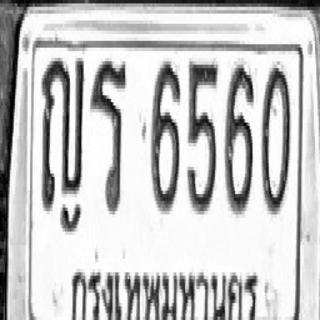A13: (41, 54, 84, 214)
A35: (90, 58, 126, 214)
N00: (260, 63, 290, 216)
N05: (186, 60, 218, 213)
N06: (150, 60, 180, 213), (224, 61, 254, 214)
P04: (65, 252, 260, 320)
